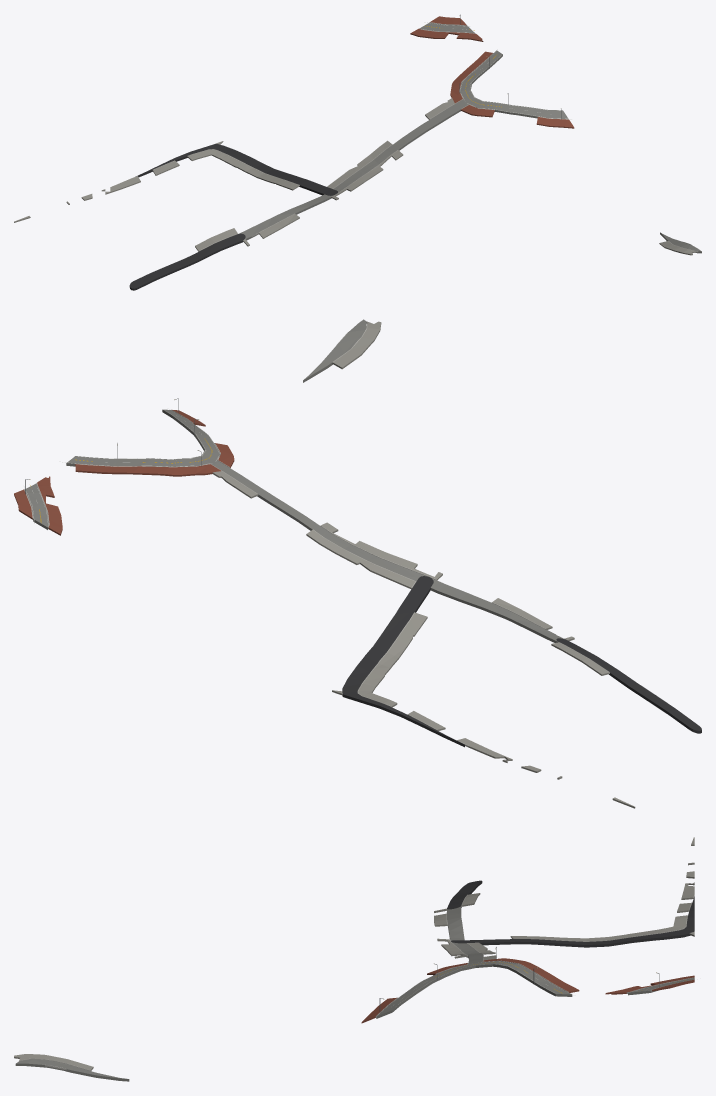
3 views of the same model, one above another, from view 1: azimuth 30°, elevation 25°; view 2: azimuth 150°, elevation 25°; view 3: azimuth 270°, elevation 25° (orthographic). The views are drawn at different scales.
Size of the model in its own units: 296 by 82.18 by 295.
